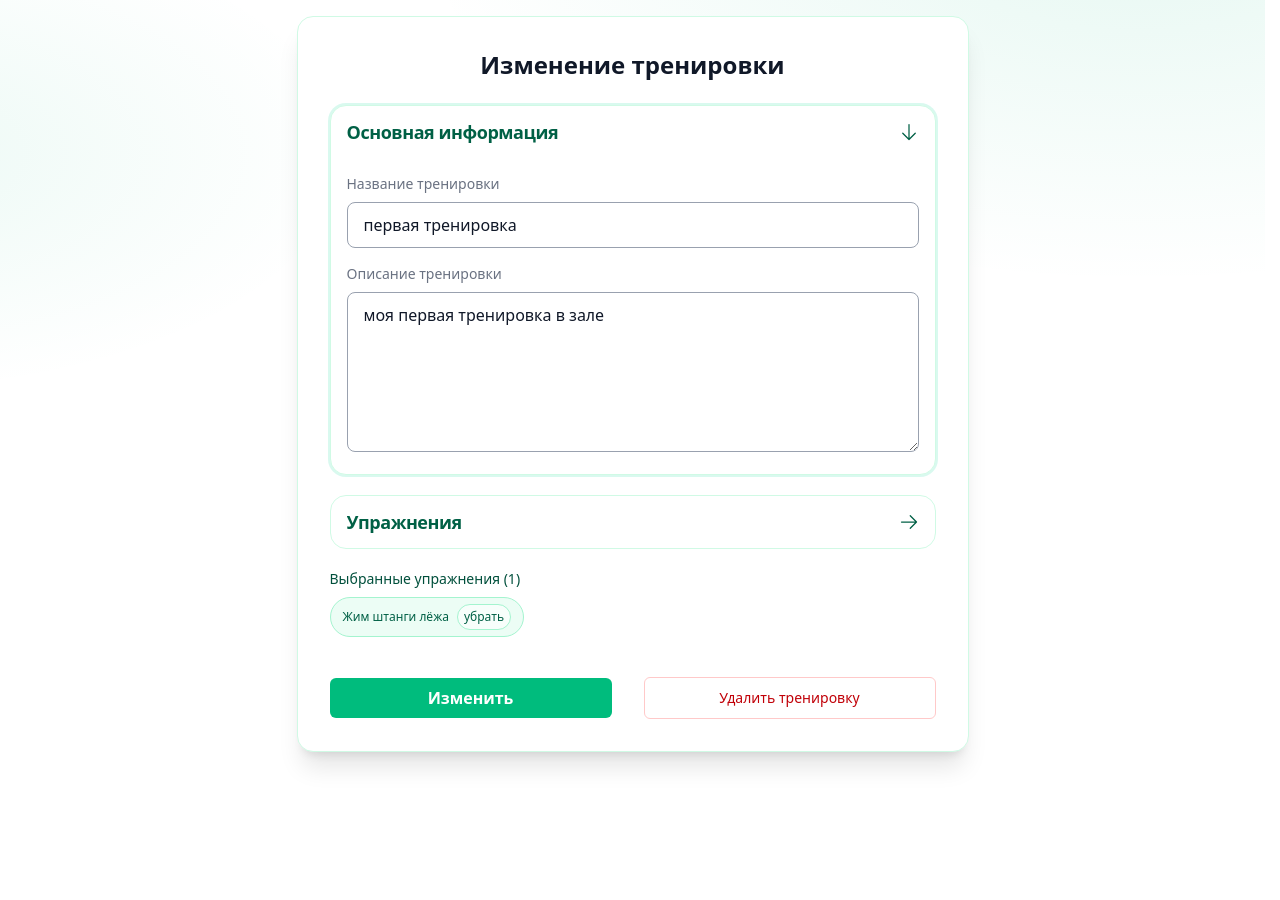
Test: Изменить тренировку › Проверка работоспособности валидации
Step 1. Clear the field labelled "Название тренировки" → (632, 225), box [346,202,918,248]
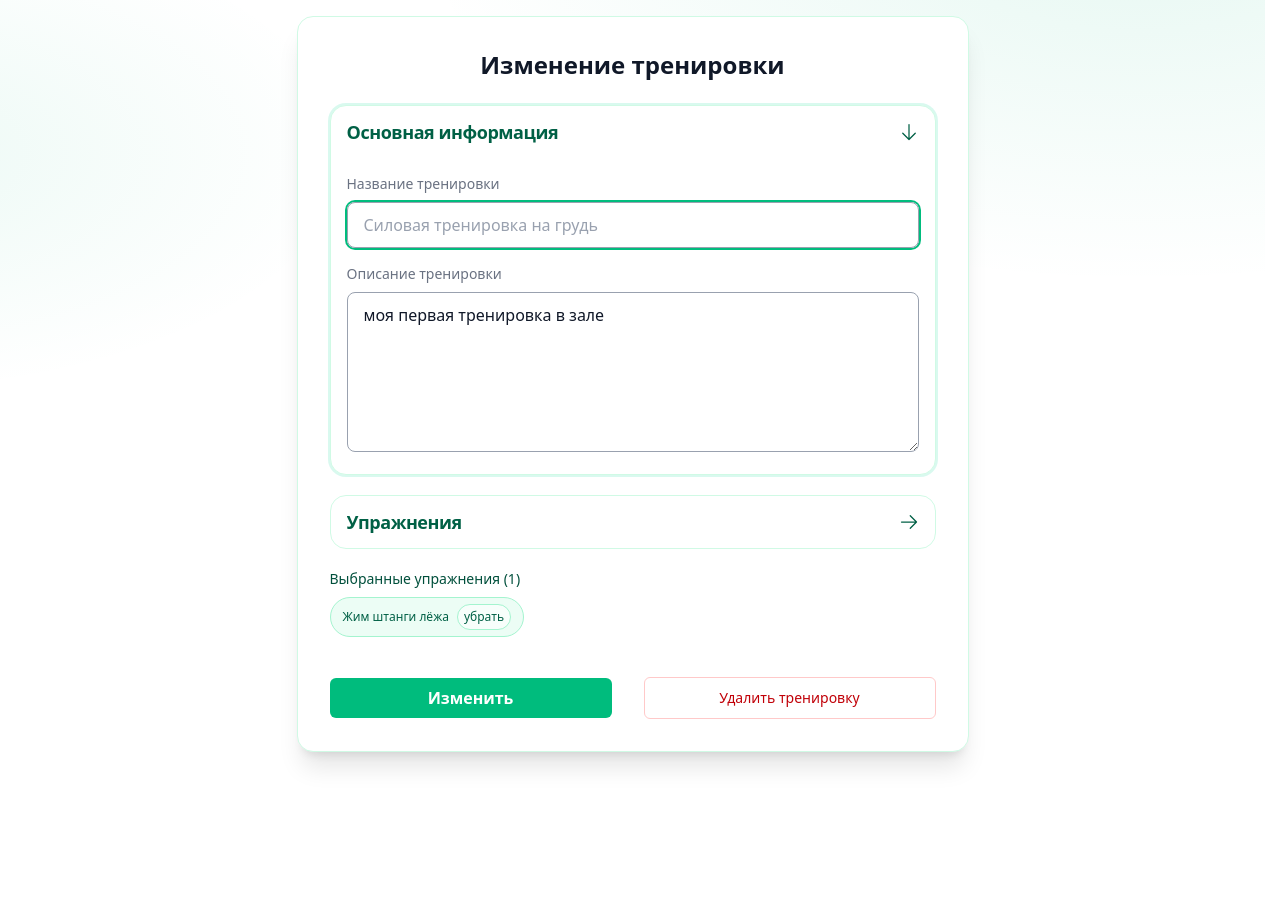
Step 2. Click the button "Жим штанги лёжа убрать" → (427, 617), box [330,597,524,637]
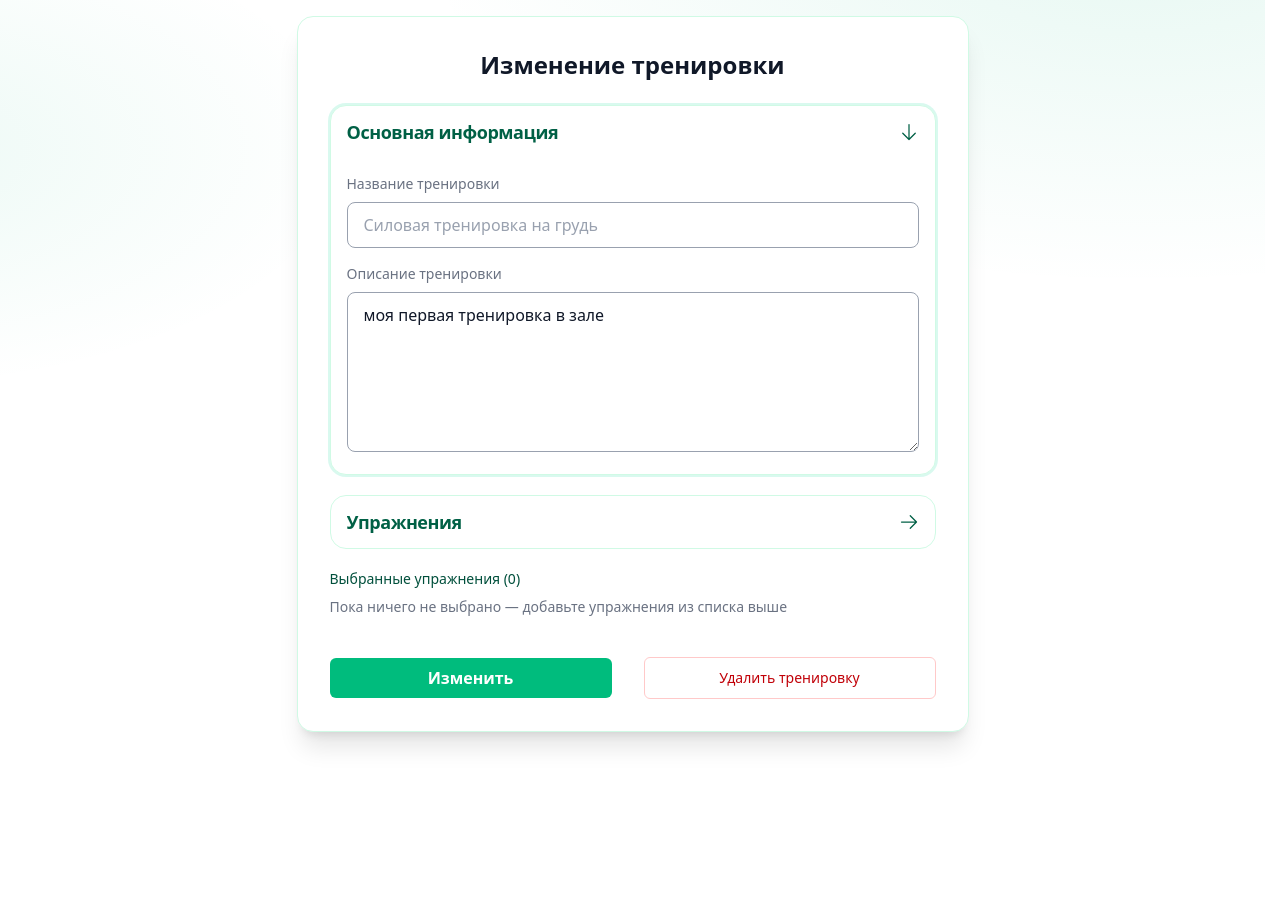
Result: the button "убрать" is gone
Step 3. Click the button "Изменить" → (471, 678), box [330,658,612,698]
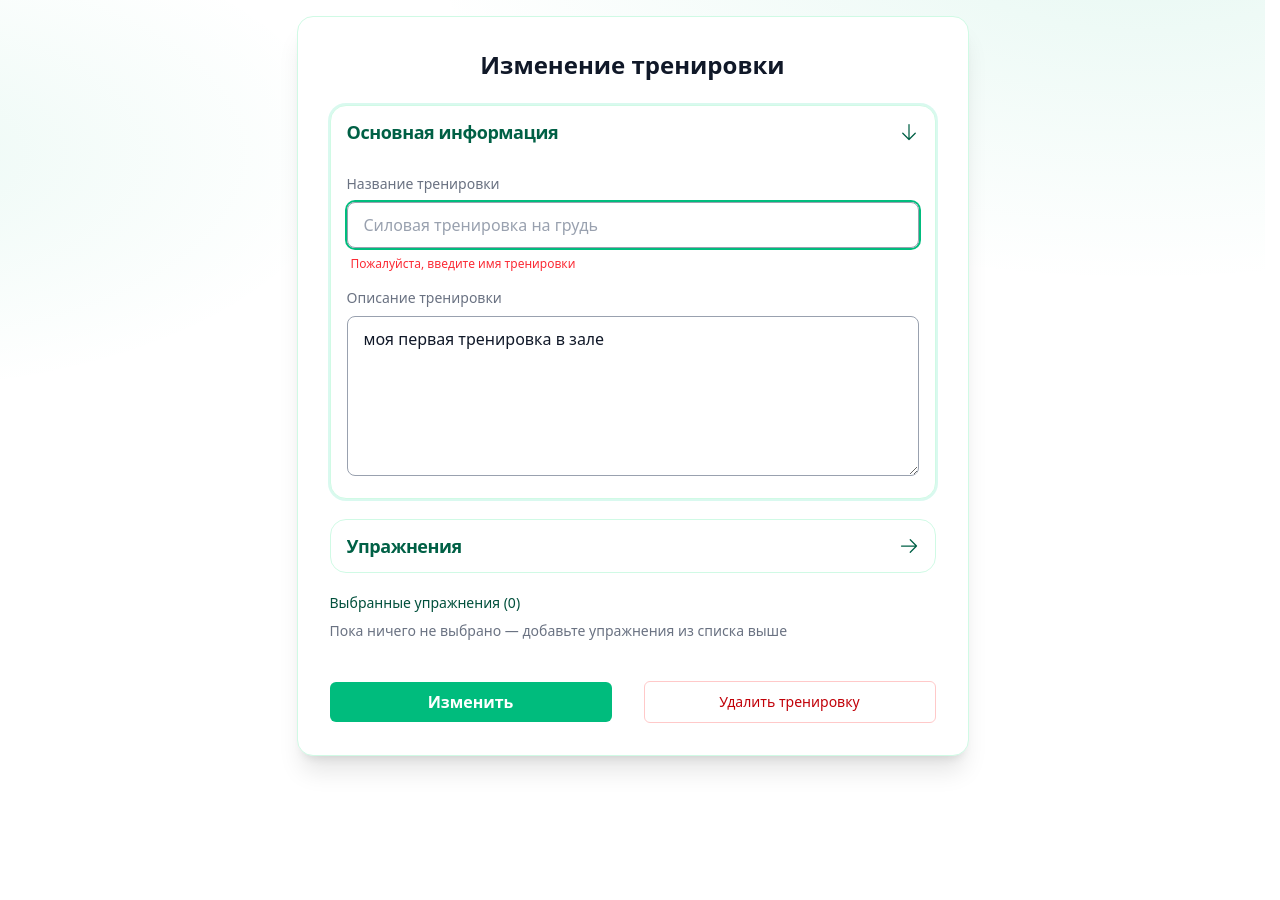
Result: the text "Пожалуйста, введите имя тренировки" is shown at [350,255,575,272]
